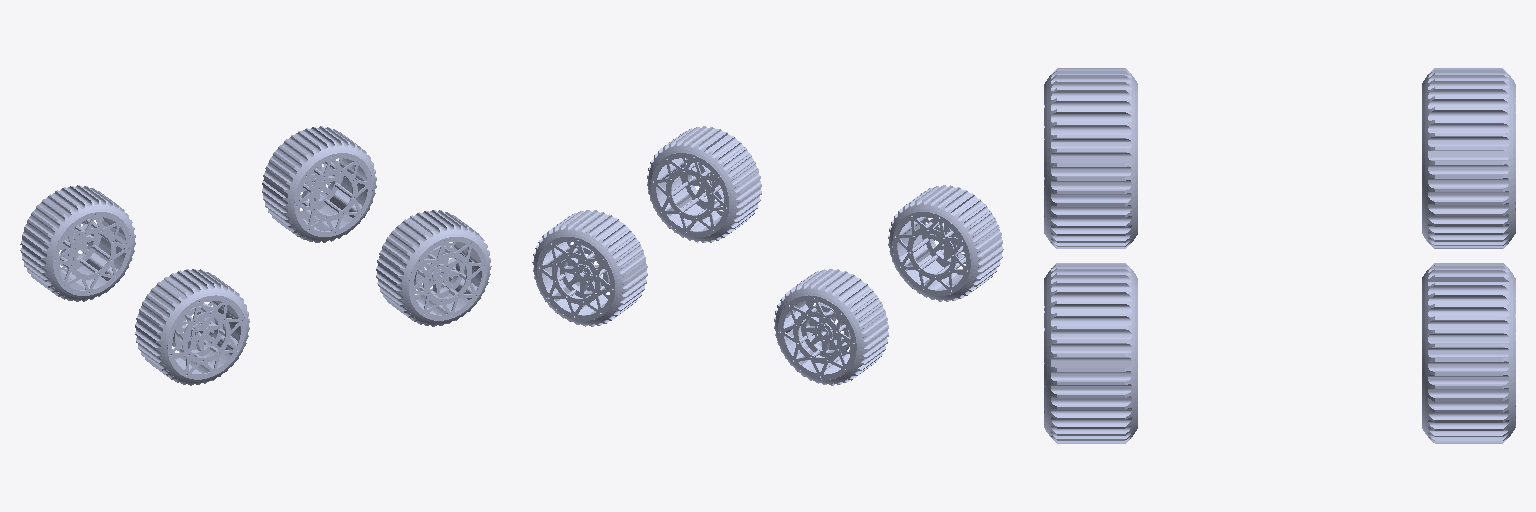
URDF robot description (q-mars-1):
<?xml version="1.0"?>
<!-- This URDF was automatically created by SolidWorks to URDF Exporter! Originally created by [author] ([email redacted]) 
     Commit Version: 1.6.0-4-g7f85cfe  Build Version: 1.6.7995.38578
     For more information, please see http://wiki.ros.org/sw_urdf_exporter -->
<robot xmlns:xacro="http://www.ros.org/wiki/xacro" name="q-mars-1">
  <link
    name="base_link">
    <inertial>
      <origin
        xyz="0.00919419632775834 7.54222423634888E-06 0.0232268615589661"
        rpy="0 0 0" />
      <mass
        value="16.52506031357" />
      <inertia
        ixx="0.140207641677359"
        ixy="-2.32852696814203E-08"
        ixz="7.49646596952963E-05"
        iyy="0.147499810523679"
        iyz="-1.09276605020779E-07"
        izz="0.218128710678082" />
    </inertial>
    <visual>
      <origin
        xyz="0 0 0"
        rpy="0 0 0" />
      <geometry>
        <mesh
          filename="package://rover_sim/meshes/base_link.STL" />
      </geometry>
      <material
        name="">
        <color
          rgba="1 1 1 0.35" />
      </material>
    </visual>
    <collision>
      <origin
        xyz="0 0 0"
        rpy="0 0 0" />
      <geometry>
        <mesh
          filename="package://rover_sim/meshes/base_link.STL" />
      </geometry>
    </collision>
  </link>
  <gazebo reference="base_link">
    <mu1>5</mu1>
    <mu2>5</mu2>
  </gazebo>
  <link
    name="left_front_wheel_link">
    <inertial>
      <origin
        xyz="2.5955E-12 -1.3474E-11 0.078232"
        rpy="0 0 0" />
      <mass
        value="3.2686" />
      <inertia
        ixx="0.0098786"
        ixy="1.1565E-13"
        ixz="-6.7006E-12"
        iyy="0.0098786"
        iyz="-5.8148E-12"
        izz="0.012101" />
    </inertial>
    <visual>
      <origin
        xyz="0 0 0"
        rpy="0 0 0" />
      <geometry>
        <mesh
          filename="package://rover_sim/meshes/left_front_wheel_link.STL" />
      </geometry>
      <material
        name="">
        <color
          rgba="0.79216 0.81961 0.93333 1" />
      </material>
    </visual>
    <collision>
      <origin
        xyz="0 0 0"
        rpy="0 0 0" />
      <geometry>
        <mesh
          filename="package://rover_sim/meshes/left_front_wheel_link.STL" />
      </geometry>
    </collision>
  </link>
  <gazebo reference="left_front_wheel_link">
    <mu1>3</mu1>
    <mu2>3</mu2>
    
    <material>Gazebo/Grey</material>
  </gazebo>
  <joint
    name="left_front_wheel_joint"
    type="continuous">
    <origin
      xyz="0.3937 0.22753 -0.20152"
      rpy="-1.5708 0 0" />
    <parent
      link="base_link" />
    <child
      link="left_front_wheel_link" />
    <axis
      xyz="0 0 1" />
    <limit
      effort="100"
      velocity="100" />
    <dynamics
      damping="0.1"
      friction="0.1" />
  </joint>
  <gazebo reference="right_front_wheel_link">
    <mu1>3</mu1>
    <mu2>3</mu2>
 
    <material>Gazebo/Grey</material>
  </gazebo>
  <link
    name="right_front_wheel_link">
    <inertial>
      <origin
        xyz="-2.6029E-13 1.2836E-10 -0.078232"
        rpy="0 0 0" />
      <mass
        value="3.2686" />
      <inertia
        ixx="0.0098786"
        ixy="2.1708E-12"
        ixz="2.2016E-13"
        iyy="0.0098786"
        iyz="7.4189E-13"
        izz="0.012101" />
    </inertial>
    <visual>
      <origin
        xyz="0 0 0"
        rpy="0 0 0" />
      <geometry>
        <mesh
          filename="package://rover_sim/meshes/right_front_wheel_link.STL" />
      </geometry>
      <material
        name="">
        <color
          rgba="0.79216 0.81961 0.93333 1" />
      </material>
    </visual>
    <collision>
      <origin
        xyz="0 0 0"
        rpy="0 0 0" />
      <geometry>
        <mesh
          filename="package://rover_sim/meshes/right_front_wheel_link.STL" />
      </geometry>
    </collision>
  </link>
  <joint
    name="right_front_wheel_joint"
    type="continuous">
    <origin
      xyz="0.39414 -0.22753 -0.20152"
      rpy="-1.5708 0 0" />
    <parent
      link="base_link" />
    <child
      link="right_front_wheel_link" />
    <axis
      xyz="0 0 1" />
    <limit
      effort="100"
      velocity="100" />
    <dynamics
      damping="0.1"
      friction="0.1" />
  </joint>
  <gazebo reference="left_back_wheel_link">
    <mu1>3</mu1>
    <mu2>3</mu2>
   
    <material>Gazebo/Grey</material>
  </gazebo>
  <link
    name="left_back_wheel_link">
    <inertial>
      <origin
        xyz="-7.4061E-11 4.2315E-11 0.078232"
        rpy="0 0 0" />
      <mass
        value="3.2686" />
      <inertia
        ixx="0.0098786"
        ixy="-5.0941E-13"
        ixz="-4.2444E-13"
        iyy="0.0098786"
        iyz="8.8291E-13"
        izz="0.012101" />
    </inertial>
    <visual>
      <origin
        xyz="0 0 0"
        rpy="0 0 0" />
      <geometry>
        <mesh
          filename="package://rover_sim/meshes/left_back_wheel_link.STL" />
      </geometry>
      <material
        name="">
        <color
          rgba="0.79216 0.81961 0.93333 1" />
      </material>
    </visual>
    <collision>
      <origin
        xyz="0 0 0"
        rpy="0 0 0" />
      <geometry>
        <mesh
          filename="package://rover_sim/meshes/left_back_wheel_link.STL" />
      </geometry>
    </collision>
  </link>
  <joint
    name="left_back_wheel_joint"
    type="continuous">
    <origin
      xyz="-0.34414 0.22753 -0.20152"
      rpy="-1.5708 0 0" />
    <parent
      link="base_link" />
    <child
      link="left_back_wheel_link" />
    <axis
      xyz="0 0 1" />
    <limit
      effort="100"
      velocity="100" />
    <dynamics
      damping="0.1"
      friction="0.1" />
  </joint>
  <gazebo reference="right_back_wheel_link">
    <mu1>3</mu1>
    <mu2>3</mu2>
    
    <material>Gazebo/Grey</material>
  </gazebo>
  <link
    name="right_back_wheel_link">
    <inertial>
      <origin
        xyz="1.3798E-10 -1.3175E-11 -0.078232"
        rpy="0 0 0" />
      <mass
        value="3.2686" />
      <inertia
        ixx="0.0098786"
        ixy="1.5981E-13"
        ixz="8.6371E-13"
        iyy="0.0098786"
        iyz="-1.2155E-13"
        izz="0.012101" />
    </inertial>
    <visual>
      <origin
        xyz="0 0 0"
        rpy="0 0 0" />
      <geometry>
        <mesh
          filename="package://rover_sim/meshes/right_back_wheel_link.STL" />
      </geometry>
      <material
        name="">
        <color
          rgba="0.79216 0.81961 0.93333 1" />
      </material>
    </visual>
    <collision>
      <origin
        xyz="0 0 0"
        rpy="0 0 0" />
      <geometry>
        <mesh
          filename="package://rover_sim/meshes/right_back_wheel_link.STL" />
      </geometry>
    </collision>
  </link>
  <joint
    name="right_back_wheel_joint"
    type="continuous">
    <origin
      xyz="-0.3437 -0.22753 -0.20152"
      rpy="-1.5708 0 0" />
    <parent
      link="base_link" />
    <child
      link="right_back_wheel_link" />
    <axis
      xyz="0 0 1" />
    <limit
      effort="100"
      velocity="100" />
    <dynamics
      damping="0.1"
      friction="0.1" />
  </joint>

  <gazebo>
    <plugin name="two_wheeled_robot_diff_drive" filename="libgazebo_ros_diff_drive.so">
 
      <update_rate>100</update_rate>
      <num_wheel_pairs>2</num_wheel_pairs>
      
      <!-- wheels -->
      <left_joint>left_back_wheel_joint</left_joint>
      <left_joint>left_front_wheel_joint</left_joint>
      <right_joint>right_back_wheel_joint</right_joint>
      <right_joint>right_front_wheel_joint</right_joint>
 
      <!-- kinematics -->
      <wheel_separation>0.6</wheel_separation>
      <wheel_separation>0.6</wheel_separation>
      <wheel_diameter>0.29</wheel_diameter>
      <wheel_diameter>0.29</wheel_diameter>
 
      <!-- limits -->
      <max_wheel_torque>80</max_wheel_torque>
      <max_wheel_acceleration>40.0</max_wheel_acceleration>
 
      <!-- Receive velocity commands on this ROS topic -->
      <command_topic>cmd_vel</command_topic>
 
      <!-- output -->
      <!-- When false, publish no wheel odometry data to a ROS topic -->
      <publish_odom>true</publish_odom>
 
      <!-- When true, publish coordinate transform from odom to base_footprint -->
      <!-- I usually use the robot_localization package to publish this transform -->  
      <publish_odom_tf>true</publish_odom_tf>
     
      <!-- When true, publish coordinate transform from base_link to the wheels -->
      <!-- The robot_state_publisher package is often used to publish this transform -->  
      <publish_wheel_tf>true</publish_wheel_tf>
 
      <odometry_topic>odom</odometry_topic>
      <odometry_frame>odom_link</odometry_frame>
      <robot_base_frame>base_link</robot_base_frame>
 
      <odometry_source>1</odometry_source>
      <ros>
        <remapping>odom:=wheel/odometry</remapping>
      </ros>
    </plugin>
  </gazebo>
</robot>

--- What the picture shows (computed from the rendered views, not written in the file) ---
Views: 3 orthographic renders of the robot side by side, from view 1: azimuth 30°, elevation 25°; view 2: azimuth 150°, elevation 25°; view 3: azimuth 270°, elevation 25°.
Robot: q-mars-1 — 5 links, 4 joints (4 continuous); root link base_link; default pose: all joints at 0.
Visible links, largest first — view 1: right_front_wheel_link, right_back_wheel_link, left_back_wheel_link, left_front_wheel_link; view 2: left_front_wheel_link, left_back_wheel_link, right_front_wheel_link, right_back_wheel_link; view 3: left_front_wheel_link, right_front_wheel_link, left_back_wheel_link, right_back_wheel_link.
Boxes of the visible links, x1,y1,x2,y2 form: right_front_wheel_link: (376, 210, 491, 326); right_back_wheel_link: (135, 269, 249, 385); left_back_wheel_link: (20, 185, 135, 301); left_front_wheel_link: (262, 126, 376, 242); left_front_wheel_link: (532, 210, 647, 326); left_back_wheel_link: (774, 269, 888, 385); right_front_wheel_link: (647, 126, 761, 242); right_back_wheel_link: (888, 185, 1003, 301); left_front_wheel_link: (1422, 263, 1515, 443); right_front_wheel_link: (1044, 263, 1137, 443); left_back_wheel_link: (1422, 68, 1515, 248); right_back_wheel_link: (1044, 68, 1137, 248).
Size in the robot's own frame: 1.03 by 0.7551 by 0.2899 metres.
4 mesh visuals loaded from 5 distinct referenced files (4 binary STL); not drawn: 1 (reference not matched to a file when rendering).
